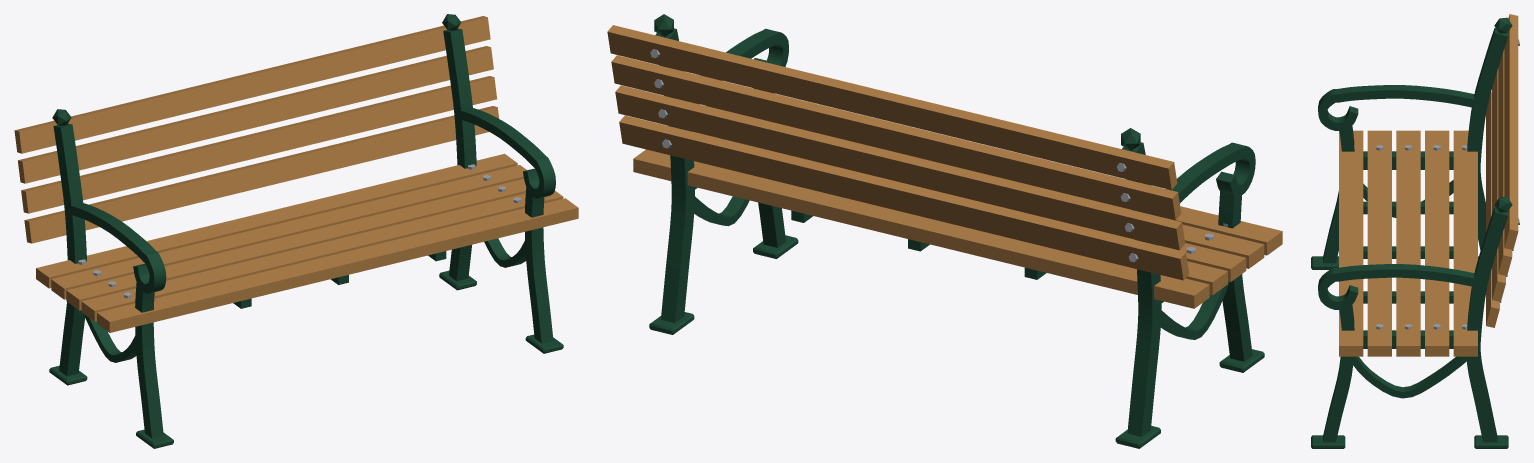
The model's file is bench.glb.
3 renders of one model, left to right at view 1: azimuth 30°, elevation 25°; view 2: azimuth 150°, elevation 25°; view 3: azimuth 270°, elevation 25°, orthographic. The views are drawn at different scales.
Visible parts, largest first — view 1: bench_mesh; view 2: bench_mesh; view 3: bench_mesh.
Boxes of the visible parts, bbox=[...] form: bench_mesh: bbox=[14, 14, 578, 448]; bench_mesh: bbox=[607, 14, 1282, 448]; bench_mesh: bbox=[1311, 14, 1519, 448].
Size of the model in its own units: 1.78 by 0.9568 by 0.7295.
